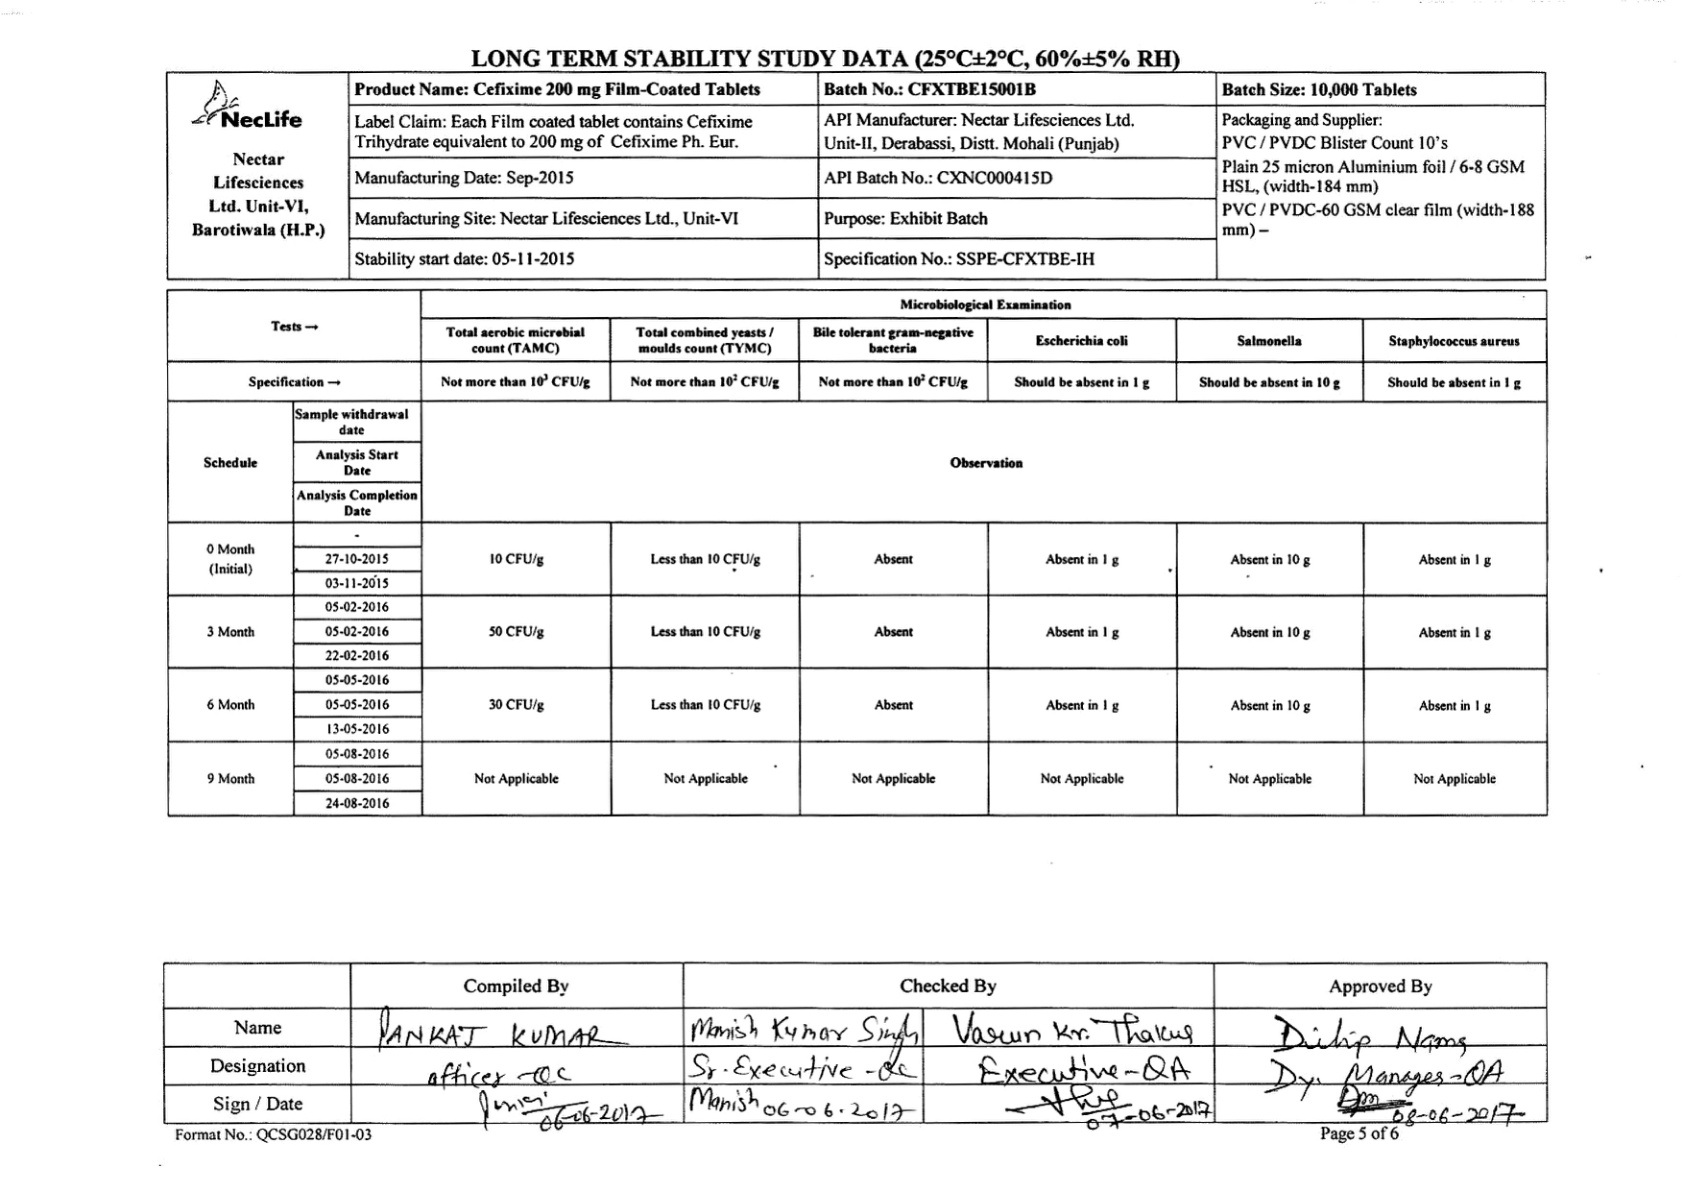full_lined: (160, 961, 1548, 1123)
merged_cells: (165, 287, 1548, 819), (164, 71, 1547, 281)
